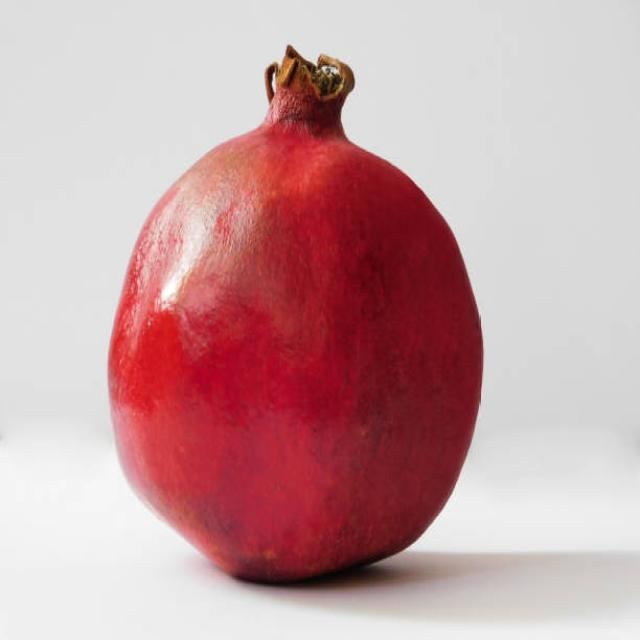Ripe: (104, 45, 486, 593)
